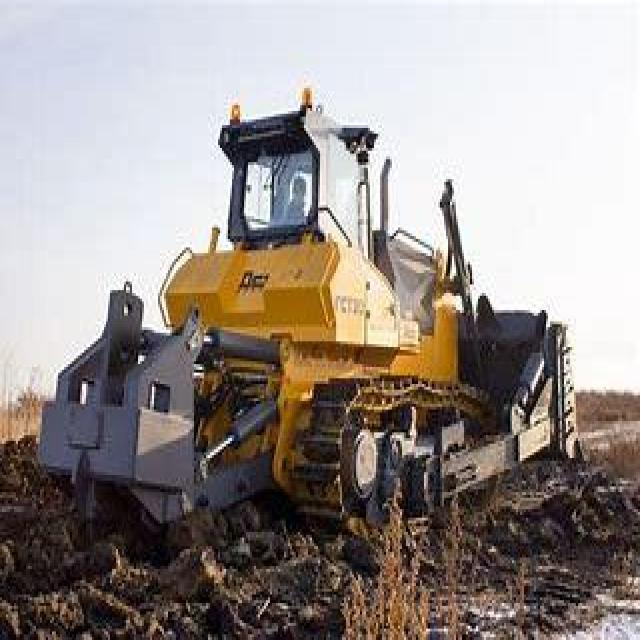Bulldozer: (28, 88, 590, 546)
